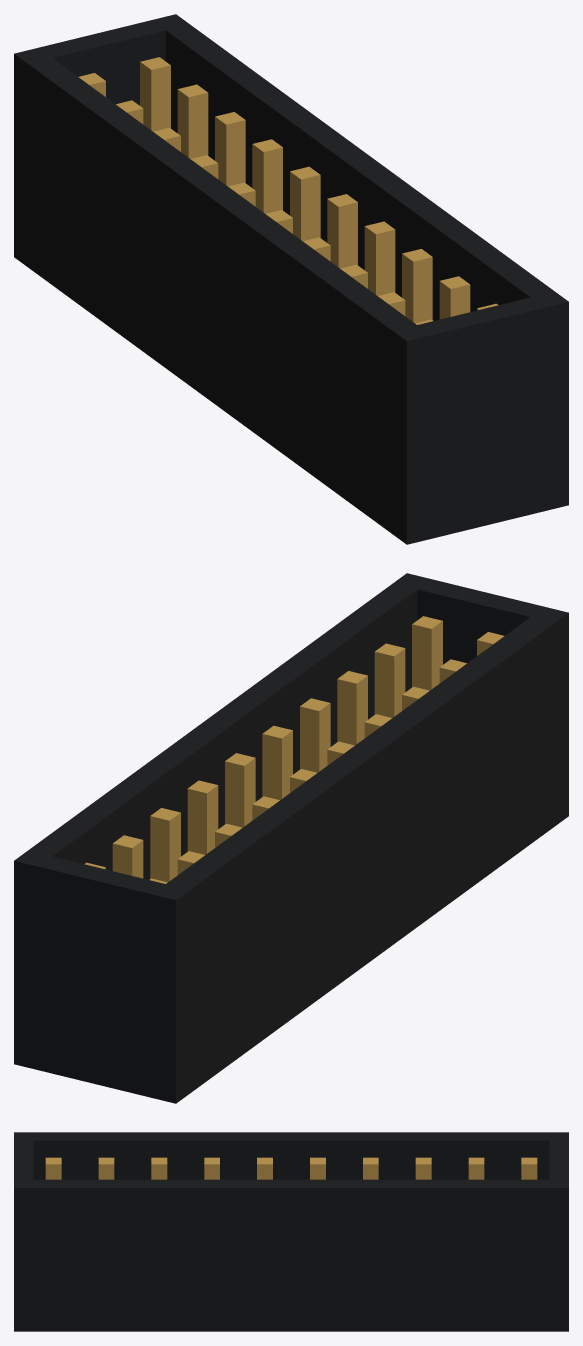
File: L130_JUSB3.fbx
3 renders of one model, top to bottom at view 1: azimuth 30°, elevation 25°; view 2: azimuth 150°, elevation 25°; view 3: azimuth 270°, elevation 25°, orthographic. The views are drawn at different scales.
Parts seen in each view (by area): view 1: JUSB3__Plastic, JUSB3__Gold; view 2: JUSB3__Plastic, JUSB3__Gold; view 3: JUSB3__Plastic, JUSB3__Gold.
Part boxes in pixels (bbox=[...]): JUSB3__Plastic: bbox=[14, 14, 568, 544]; JUSB3__Gold: bbox=[78, 57, 498, 324]; JUSB3__Plastic: bbox=[14, 573, 568, 1103]; JUSB3__Gold: bbox=[84, 616, 504, 883]; JUSB3__Plastic: bbox=[14, 1132, 568, 1331]; JUSB3__Gold: bbox=[45, 1157, 537, 1179].
Size of the model in its own units: 5 by 6 by 21.
